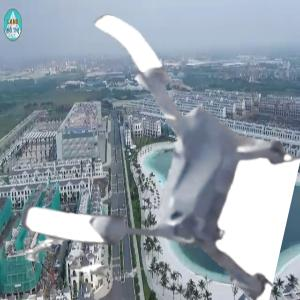drone: (27, 16, 300, 290)
